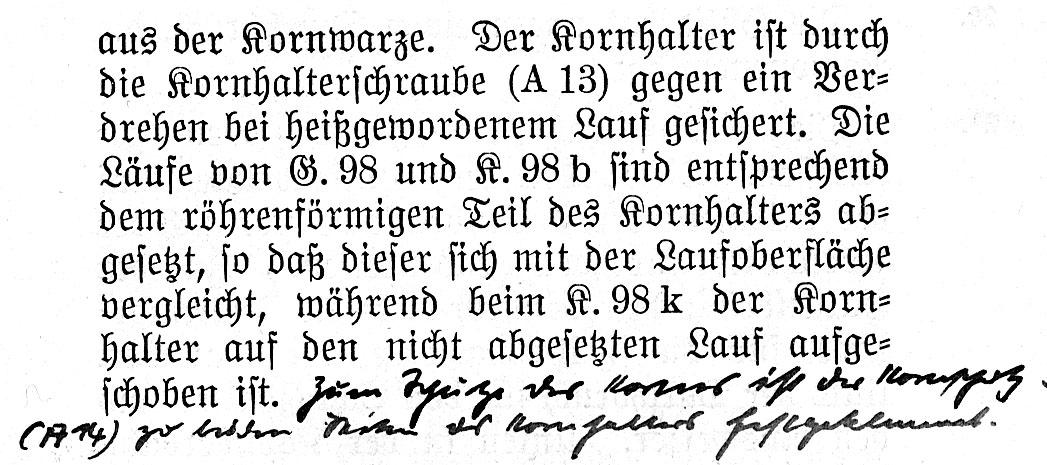text: (99, 360, 1028, 430), (17, 403, 999, 461), (98, 324, 893, 374), (98, 192, 892, 242), (98, 102, 891, 152), (98, 280, 893, 329), (97, 58, 891, 107), (98, 146, 892, 195), (99, 237, 894, 285), (97, 14, 890, 58)
